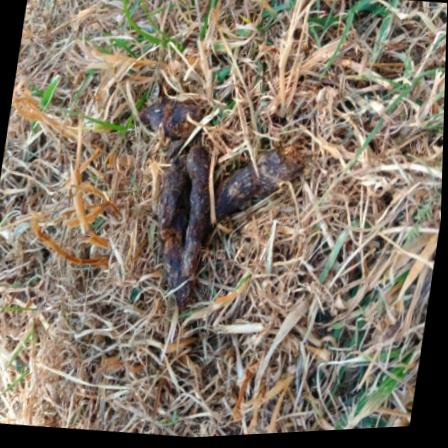dog-poop: (132, 99, 223, 306), (211, 118, 310, 237)
